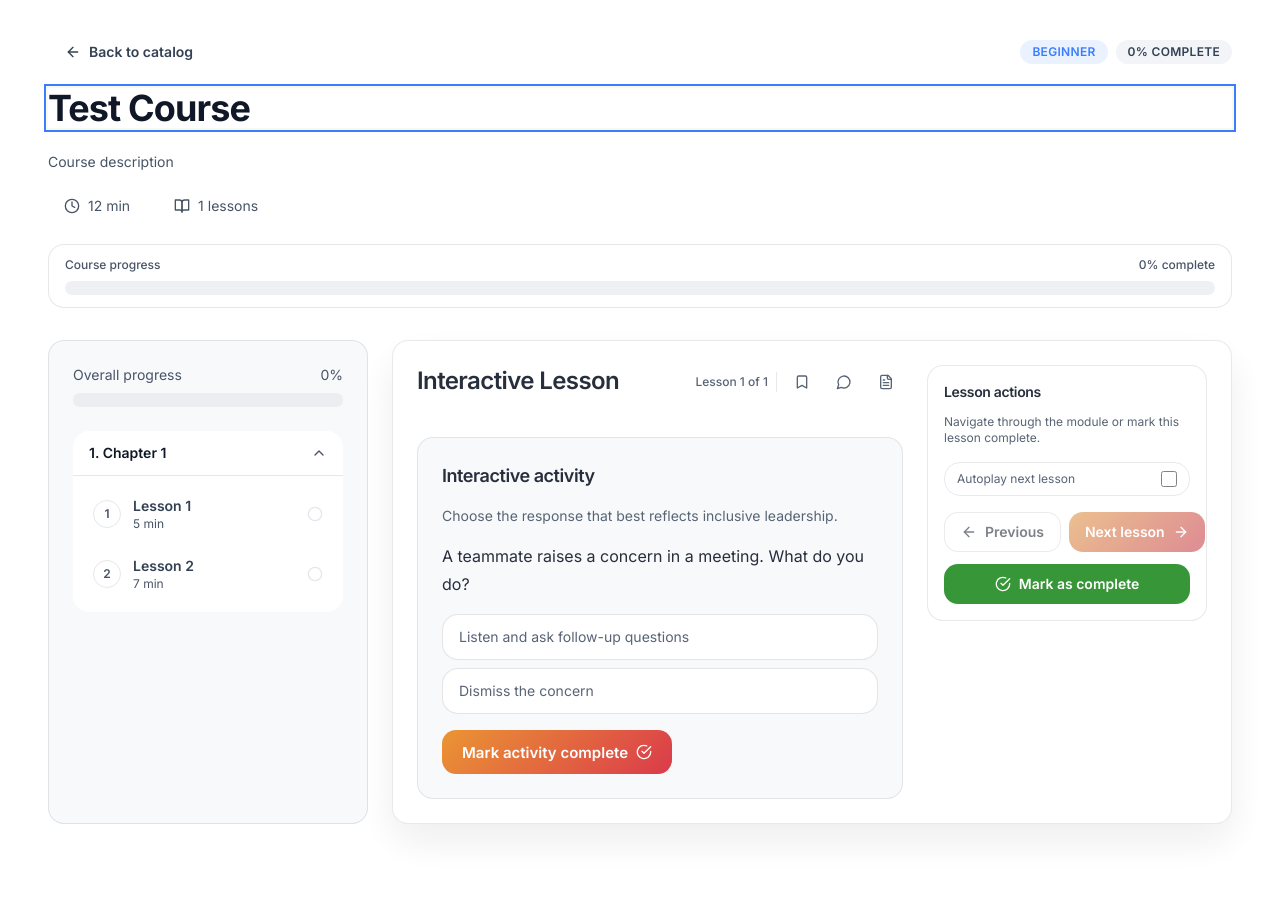
CoursePlayer progress integration › renders the configured scenario text and options for an interactive lesson, not a content-blind stub
expect the text "A teammate raises a concern in a meeting. What do you do?" is shown: met, box [442,542,878,598]
expect the text "Choose the response that best reflects inclusive leadership." is shown: met, box [442,506,878,526]
Click the button "Listen and ask follow-up questions": [660, 637] box [442,614,878,660]
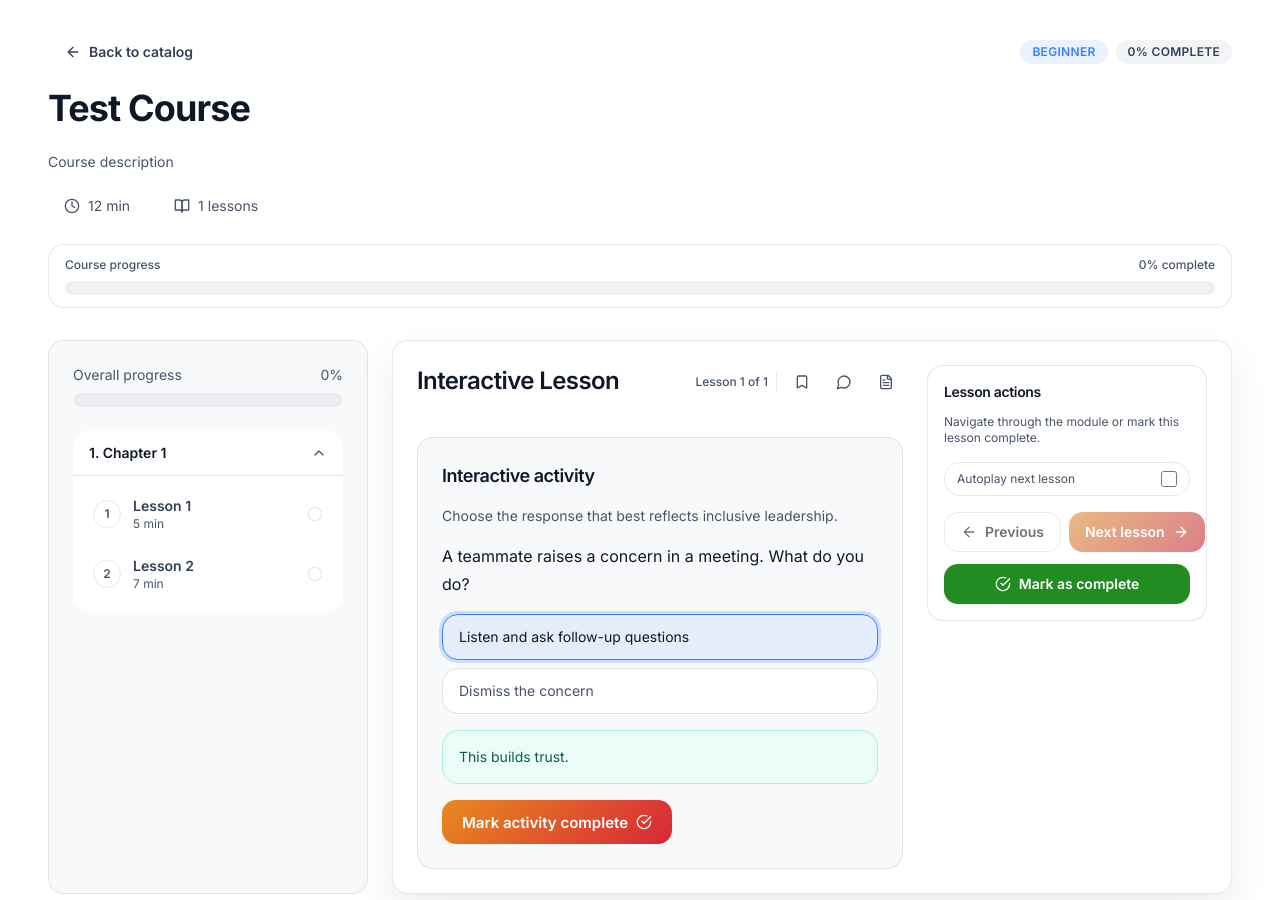
expect the button "Mark activity complete" is shown: met, box [442,800,672,844]
expect the text "This builds trust." is shown: met, box [442,730,878,784]
